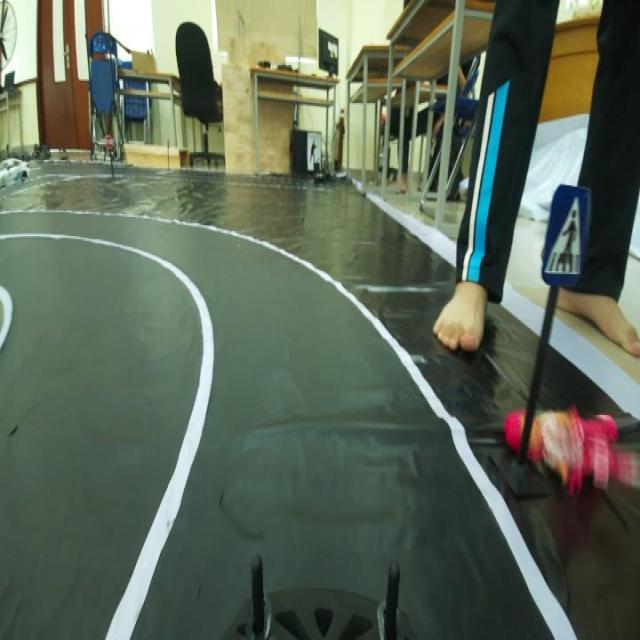crosswalk: (540, 174, 592, 280)
